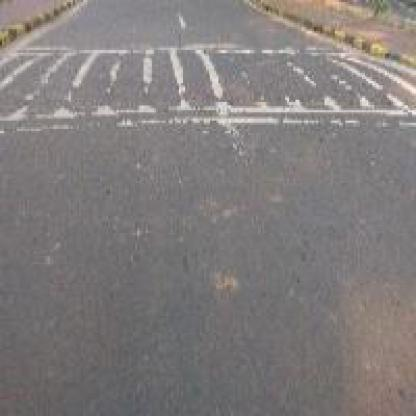Speed Bump: (2, 42, 412, 124)
